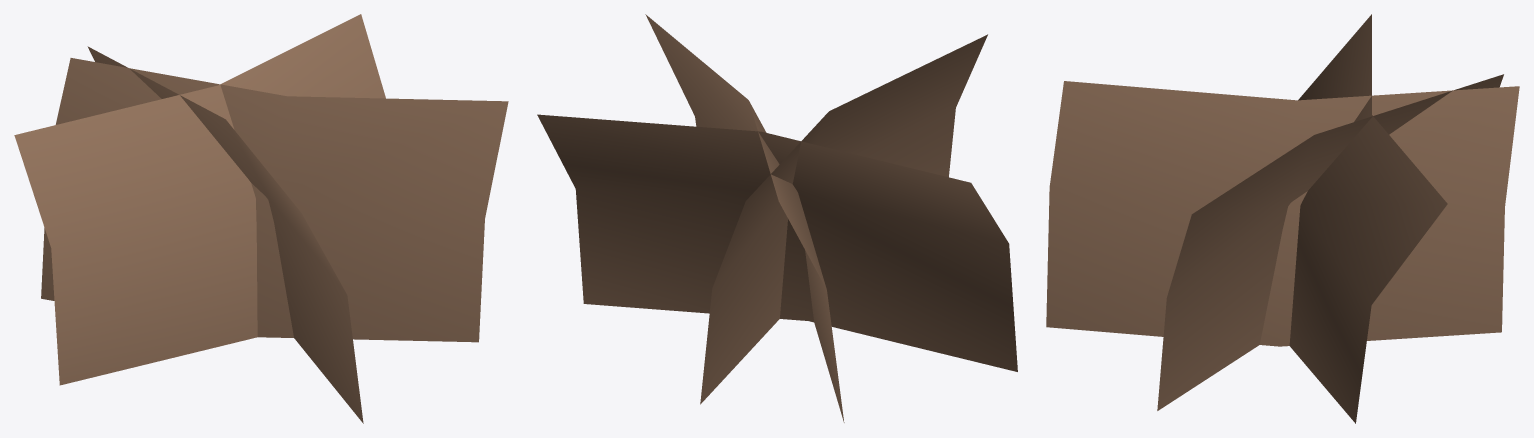
The model's file is GrassPlanes_b_TwoS_08.fbx.
The picture shows the model from 3 angles, left to right: view 1: azimuth 30°, elevation 25°; view 2: azimuth 150°, elevation 25°; view 3: azimuth 270°, elevation 25°; orthographic projection. The views are drawn at different scales.
Parts seen in each view (by area): view 1: GrassPlanes_b_TwoS_08; view 2: GrassPlanes_b_TwoS_08; view 3: GrassPlanes_b_TwoS_08.
Boxes of the visible parts, x1,y1,x2,y2 form: GrassPlanes_b_TwoS_08: [14, 14, 508, 423]; GrassPlanes_b_TwoS_08: [537, 14, 1017, 422]; GrassPlanes_b_TwoS_08: [1046, 14, 1519, 423].
Bounding box in the file's own units: 100 × 51.41 × 100.
